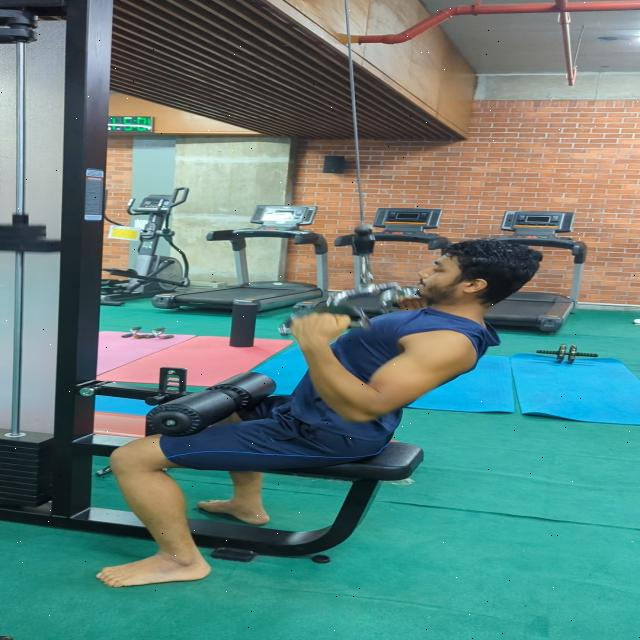Normal_LatPulldown: (50, 227, 572, 598)
